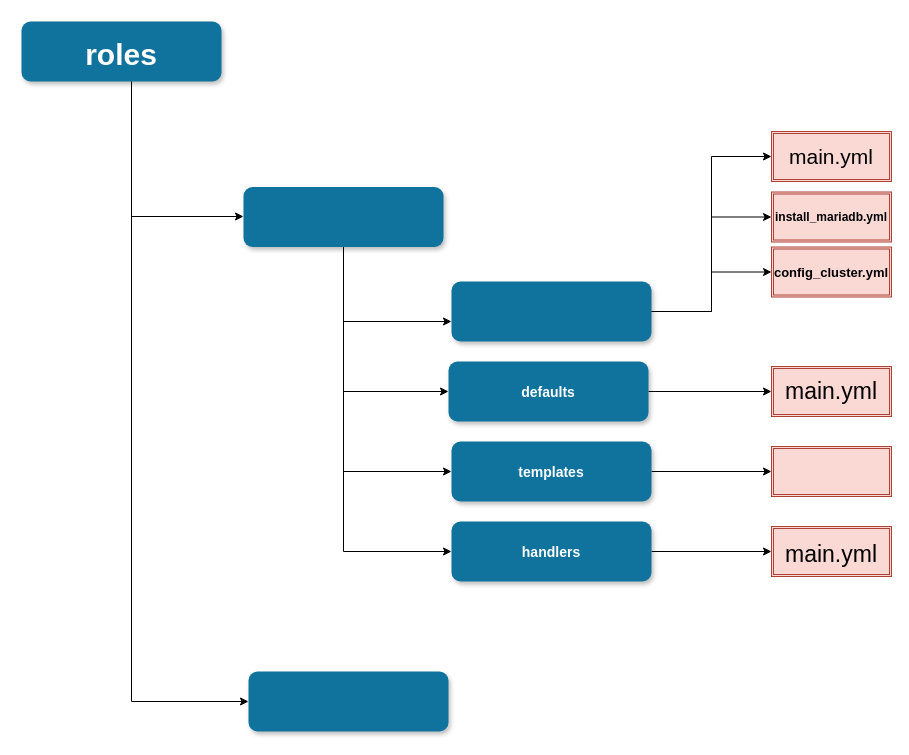
Image size: 909x755. Some labels were removed from this diagram. Each missing label, with the centre of its shape:
"cluster.cnf.j2" goes at point (831, 471).
"install_..." goes at point (349, 702).
"install_mariadb" goes at point (344, 218).
"tasks" goes at point (552, 312).
